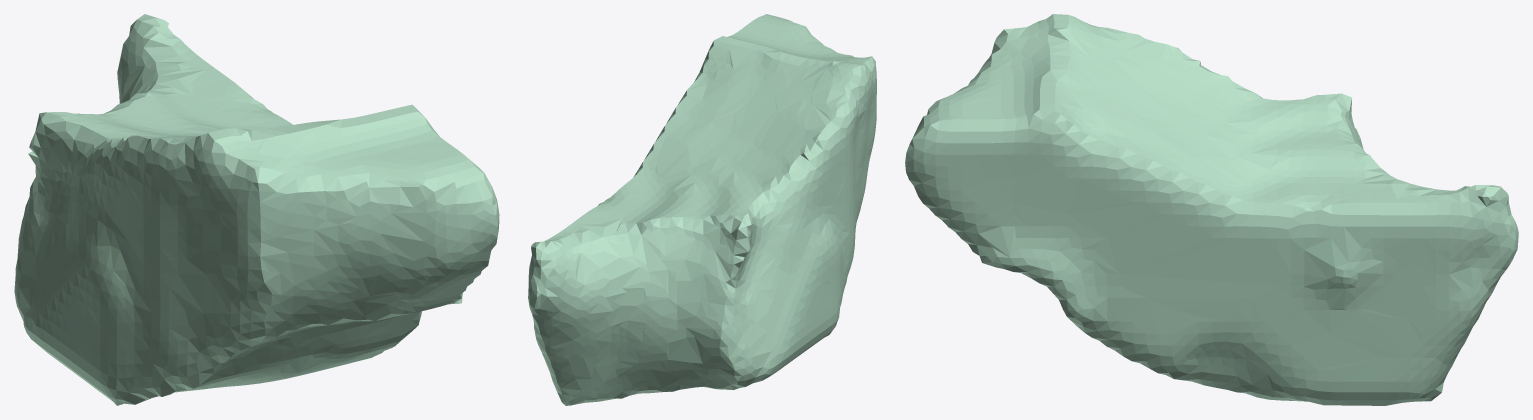
File: Model_10112_LH__Parietal_area_PG__medial_part_(PGM).obj
The picture shows the model from 3 angles, left to right: view 1: azimuth 30°, elevation 25°; view 2: azimuth 150°, elevation 25°; view 3: azimuth 270°, elevation 25°; orthographic projection. The views are drawn at different scales.
Bounding box in the file's own units: 1.98 × 2.59 × 4.66.
